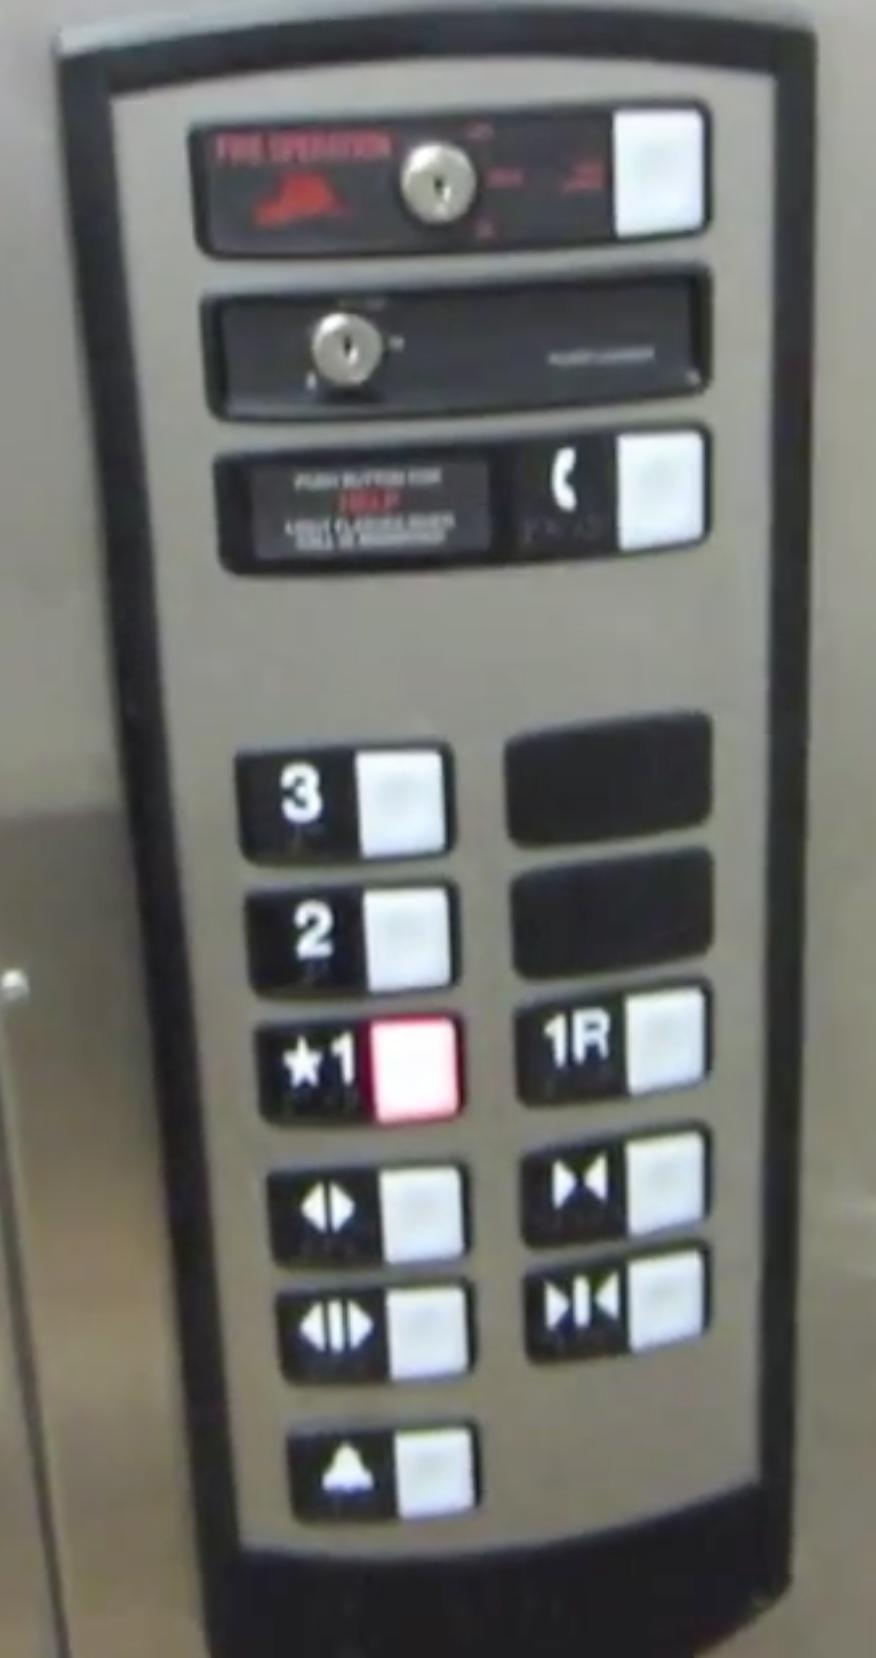1R: (507, 966, 723, 1116)
2: (235, 875, 470, 1008)
3: (225, 738, 460, 874)
alarm: (278, 1413, 492, 1538)
call: (477, 413, 721, 579)
close: (508, 1115, 720, 1257), (513, 1233, 718, 1374)
empty: (502, 88, 719, 262)
hat: (187, 103, 487, 265)
keyhole: (190, 282, 417, 431)
open: (255, 1157, 477, 1281), (266, 1274, 482, 1396)
s1: (247, 1008, 473, 1140)
